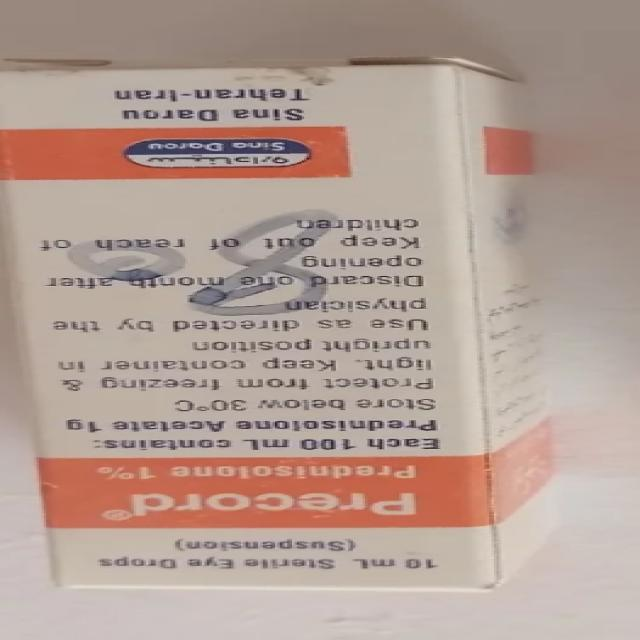drug-name: (128, 490, 418, 519)
